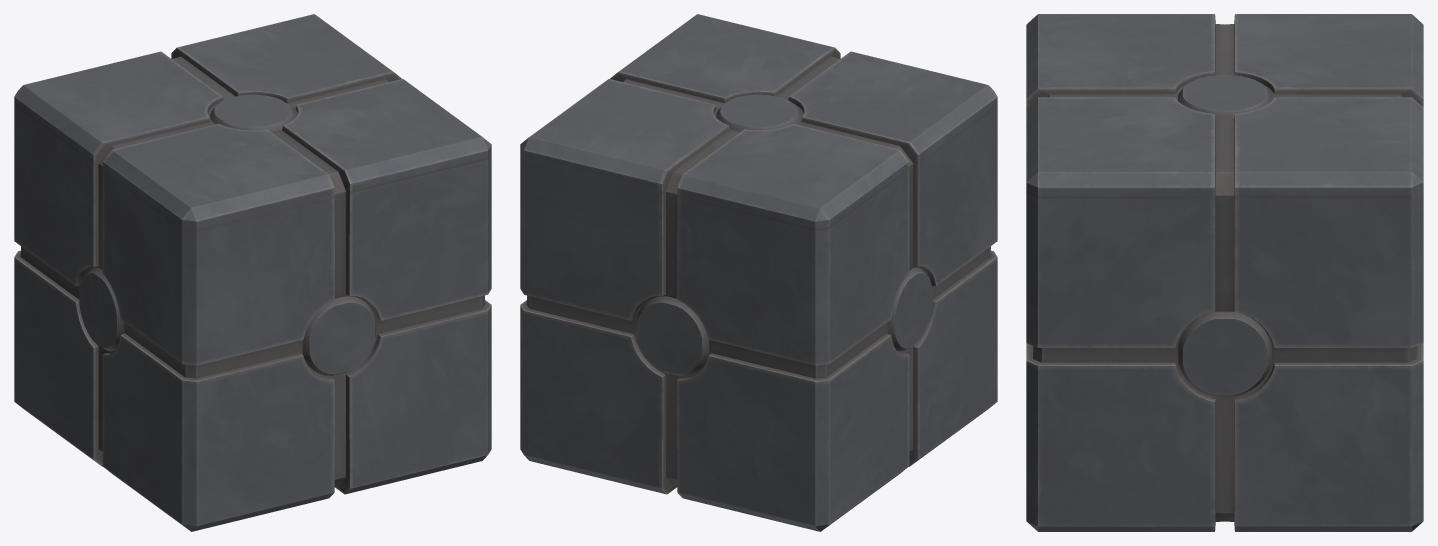
The model's file is holo-cube-3D.glb.
The picture shows the model from 3 angles, left to right: view 1: azimuth 30°, elevation 25°; view 2: azimuth 150°, elevation 25°; view 3: azimuth 270°, elevation 25°; orthographic projection. The views are drawn at different scales.
Parts seen in each view (by area): view 1: CrateCube; view 2: CrateCube; view 3: CrateCube.
Boxes of the visible parts, box(x1,y1,x2,y2) form: CrateCube: box(14, 14, 491, 531); CrateCube: box(520, 14, 997, 531); CrateCube: box(1026, 14, 1423, 531).
Size of the model in its own units: 0.4683 by 0.4683 by 0.4683.
Materials: 1 (1 with a texture image).
